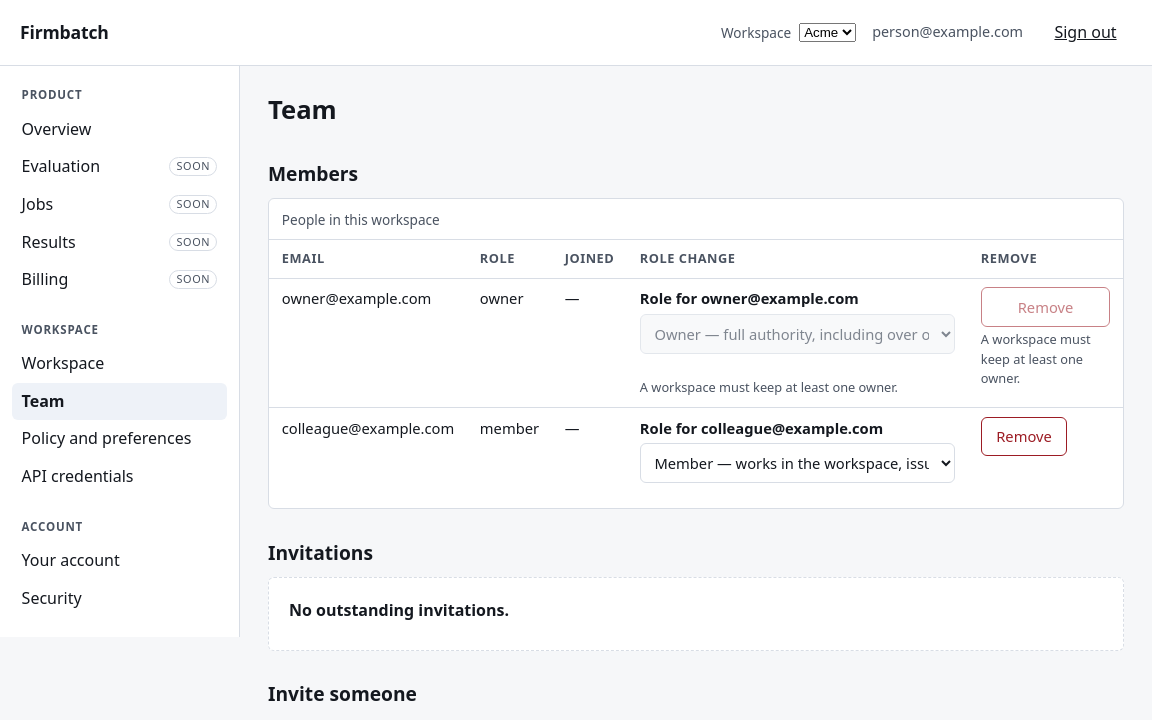
Test: an owner acting normally › removes a member and says what the removal took with it
This screenshot has width=1152, height=720.
Expected: the heading "Team" is shown, [268,92,337,127]
Click the button "Remove" next to "Role for colleague@example.com" at (1024, 436), box [981,417,1067,456]
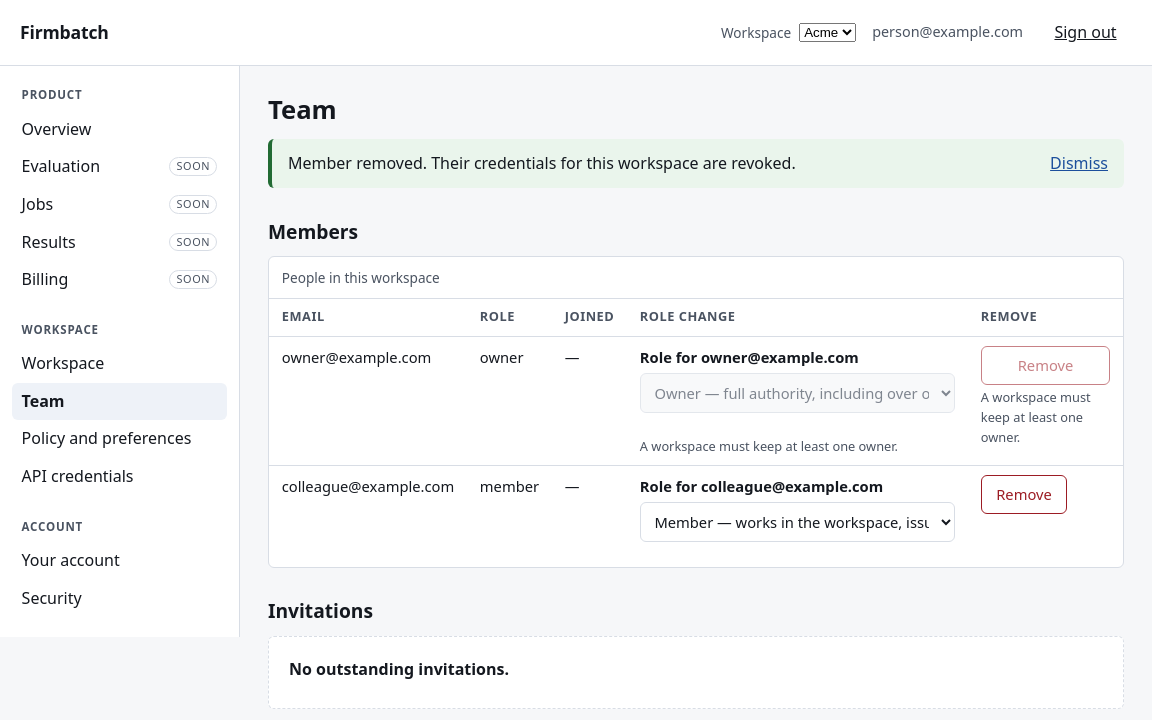
Result: the text "Their credentials for this workspace are revoked" is shown at [288,152,796,174]
